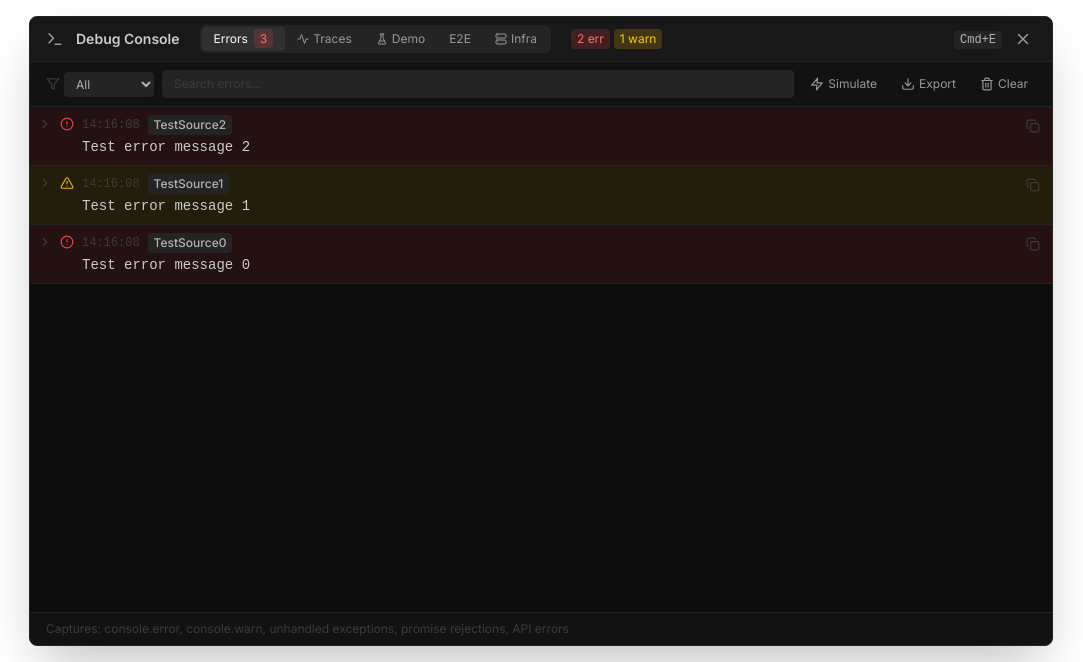
Test case: ErrorConsole › Search › filters errors by search query
Type "message 1" into the field with placeholder "Search errors..." at (478, 84), box [162,70,794,98]
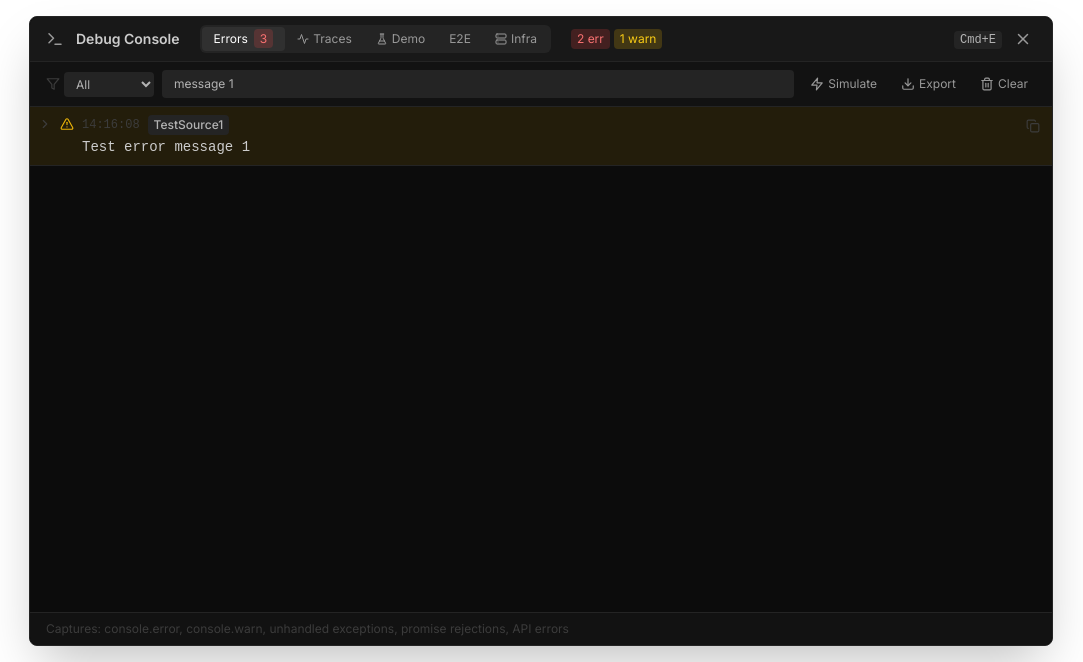
expect the text "Test error message 1" is shown: met, box [82,139,250,155]
expect the text "Test error message 0" is gone: met
expect the text "Test error message 2" is gone: met
